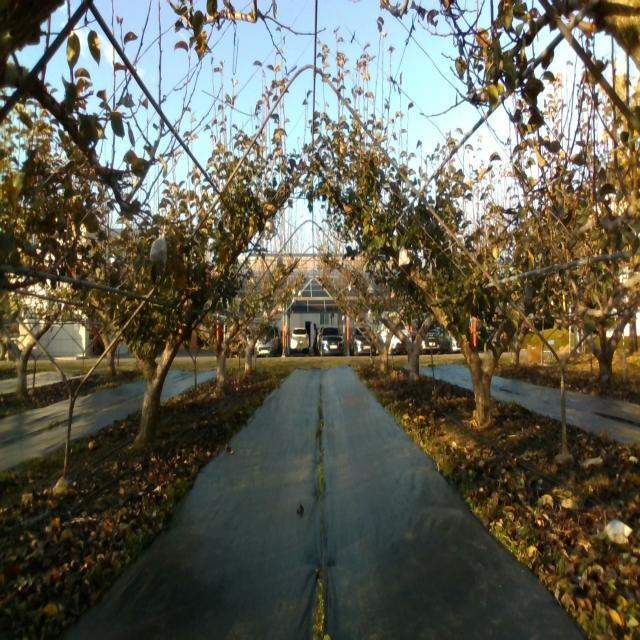pearbags: (149, 233, 168, 273), (398, 247, 411, 267)
